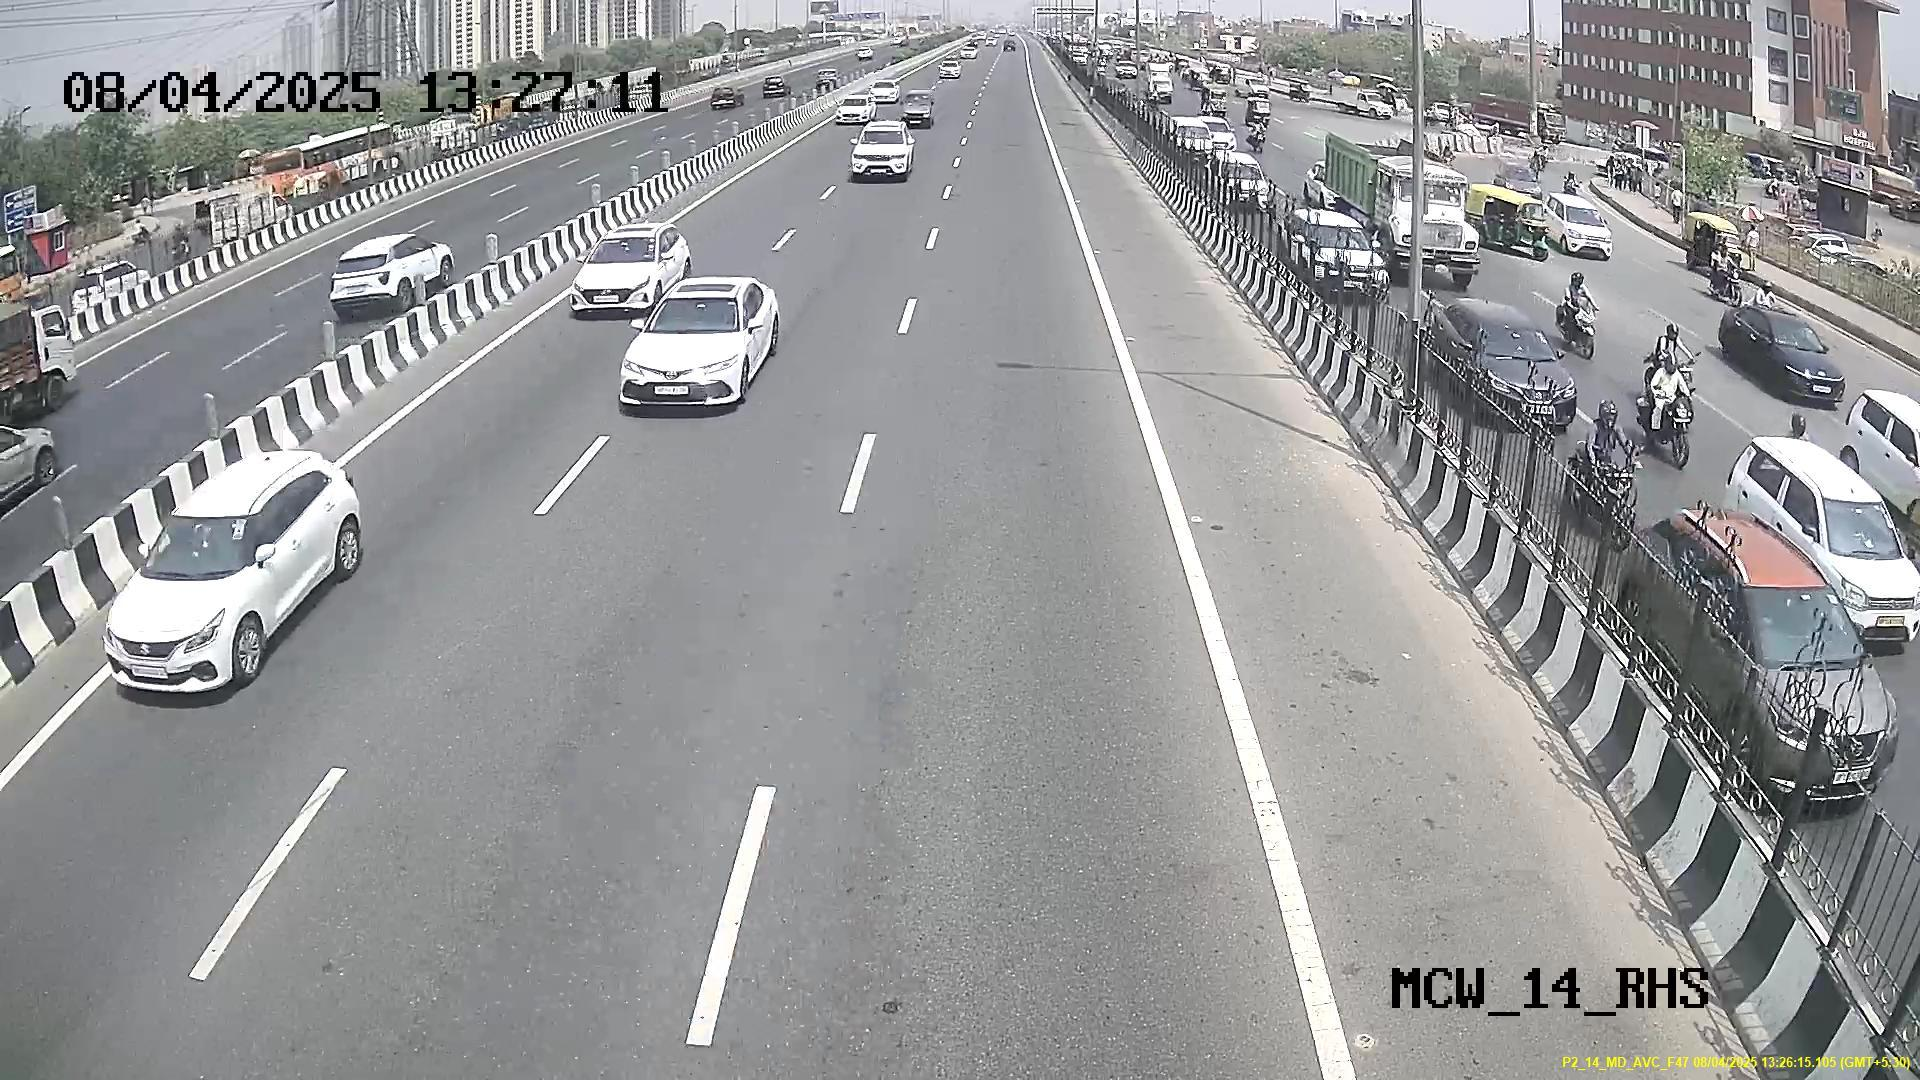car: (98, 467, 297, 699), (615, 287, 758, 418), (566, 227, 669, 315), (848, 124, 913, 183)
